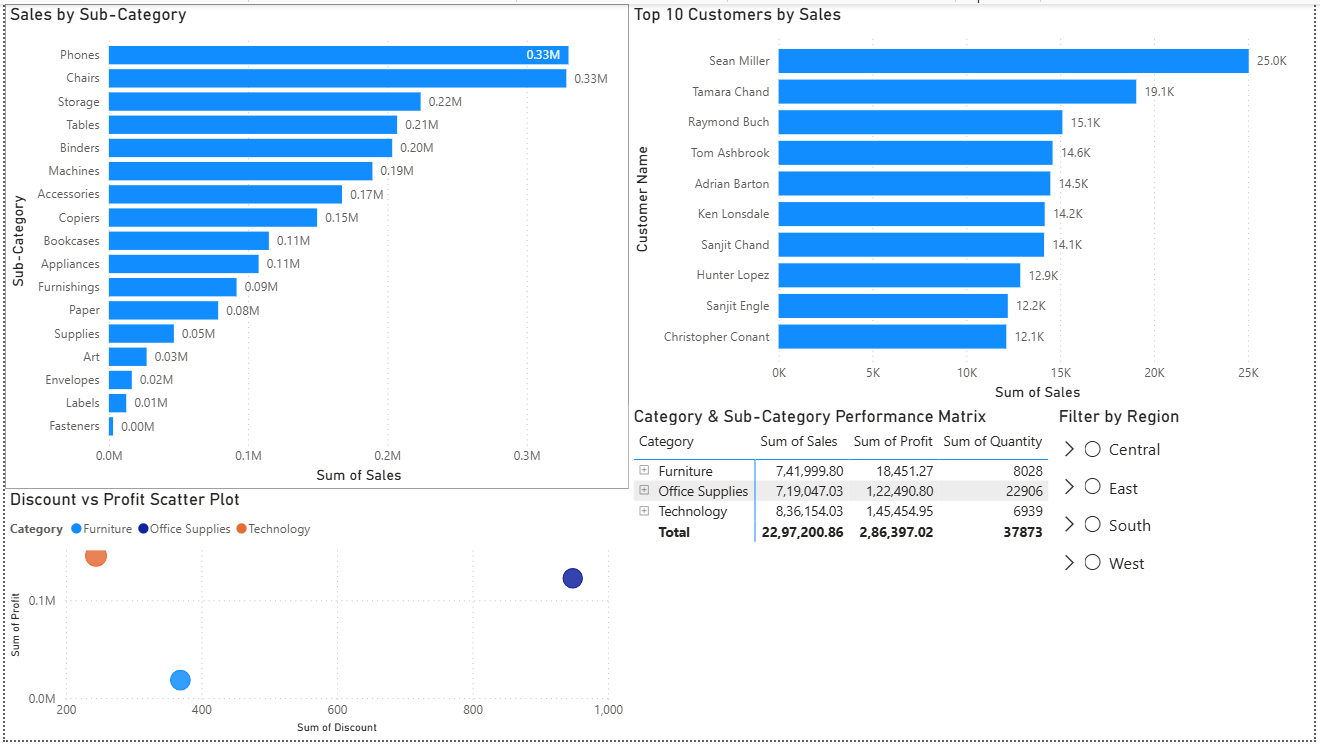

The dashboard page shown, as its layout file describes it:
{"tool":"powerbi","page":{"name":"Customer & Product Insights","canvas":[1280,720],"ordinal":1},"visuals":[{"type":"clusteredBarChart","title":"Top 10 Customers by Sales","fields":{"Category":["superstore_clean.Customer Name"],"Y":["Sum(superstore_clean.Sales)"]},"box":[610.2,0,668.9,392.5],"z":0},{"type":"barChart","title":"Sales by Sub-Category","fields":{"Category":["superstore_clean.Sub-Category"],"Y":["Sum(superstore_clean.Sales)"]},"box":[0,0,610.2,474.5],"z":1000},{"type":"scatterChart","title":"Discount vs Profit Scatter Plot","fields":{"Category":["superstore_clean.Category"],"Series":["superstore_clean.Category"],"Size":["Sum(superstore_clean.Sales)"],"X":["Sum(superstore_clean.Discount)"],"Y":["Sum(superstore_clean.Profit)"]},"box":[0,474.5,610.2,244.6],"z":2000},{"type":"pivotTable","title":"Category & Sub-Category Performance Matrix","fields":{"Rows":["superstore_clean.Category","superstore_clean.Sub-Category"],"Values":["Sum(superstore_clean.Sales)","Sum(superstore_clean.Profit)","Sum(superstore_clean.Quantity)"]},"box":[610.2,392.5,415.8,327.7],"z":4000},{"type":"listSlicer","title":"Filter by Region  ","fields":{"Values":["superstore_clean.Region","superstore_clean.Category","superstore_clean.Order Date.Variation.Date Hierarchy.Year","superstore_clean.Order Date.Variation.Date Hierarchy.Quarter","superstore_clean.Order Date.Variation.Date Hierarchy.Month","superstore_clean.Order Date.Variation.Date Hierarchy.Day"]},"box":[1026,392.5,254.3,326.5],"z":4001}]}

Visuals, with their boxes in screenshot pixels (x1, y1, x2, y2), scaled from the page's 1280x720 canvas onto the 1320x747 screenshot:
"Top 10 Customers by Sales" clusteredBarChart: locate(629, 0, 1319, 407)
"Sales by Sub-Category" barChart: locate(0, 0, 629, 492)
"Discount vs Profit Scatter Plot" scatterChart: locate(0, 492, 629, 746)
"Category & Sub-Category Performance Matrix" pivotTable: locate(629, 407, 1058, 746)
"Filter by Region  " listSlicer: locate(1058, 407, 1319, 746)
